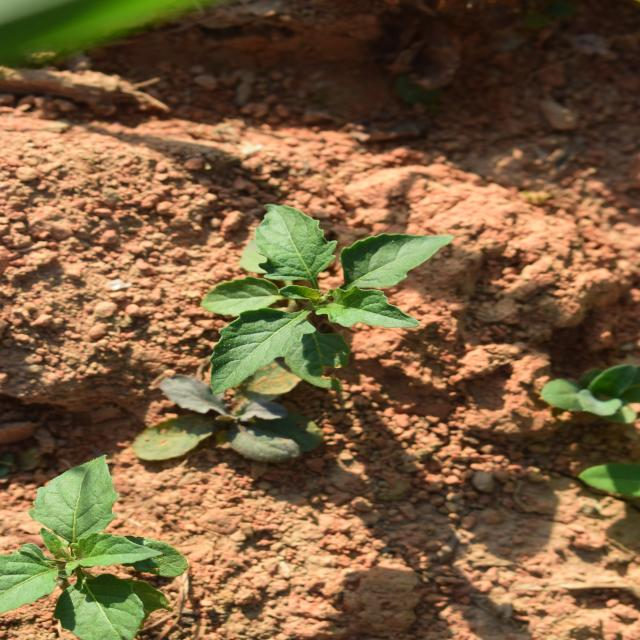Black_nightshade: (206, 207, 392, 442), (460, 469, 634, 634)
